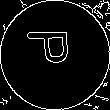P_E: (29, 36, 81, 74)
